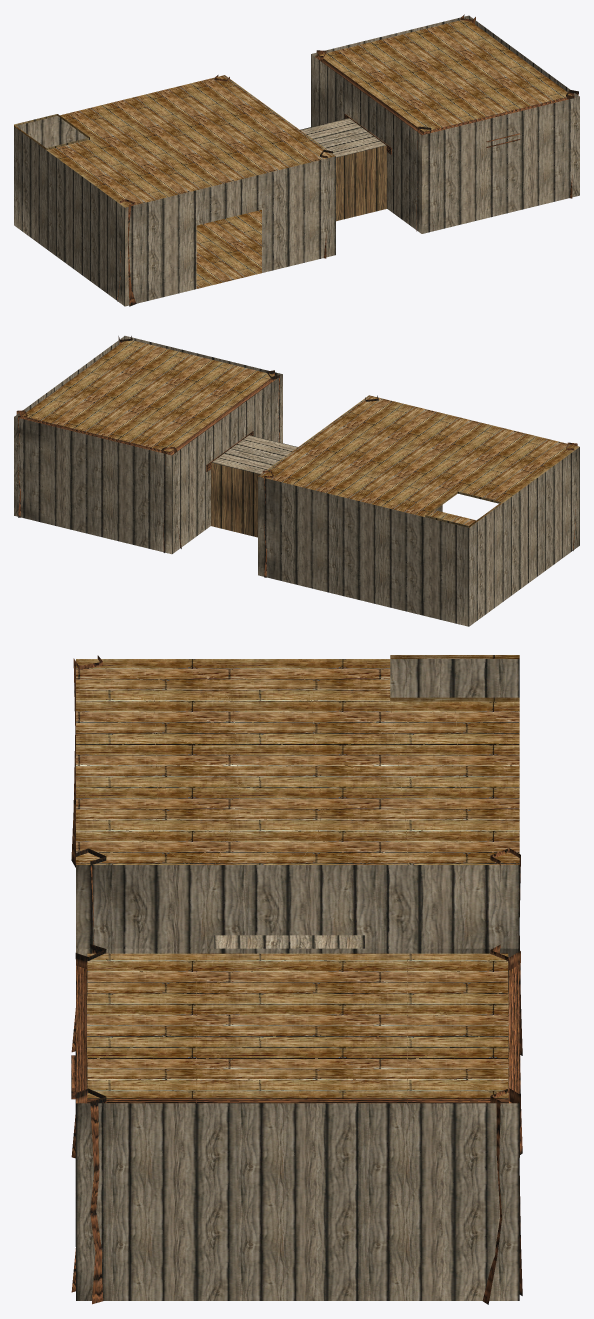
File: LAKETOWN_PUB_PS_PUB_CELLAR5756__GX.fbx
3 renders of one model, top to bottom at view 1: azimuth 30°, elevation 25°; view 2: azimuth 150°, elevation 25°; view 3: azimuth 270°, elevation 25°, orthographic. The views are drawn at different scales.
Parts seen in each view (by area): view 1: LAKETOWN_PUB_PS_PUB_CELLAR5756__GX; view 2: LAKETOWN_PUB_PS_PUB_CELLAR5756__GX; view 3: LAKETOWN_PUB_PS_PUB_CELLAR5756__GX.
Boxes of the visible parts, bbox=[...] form: LAKETOWN_PUB_PS_PUB_CELLAR5756__GX: bbox=[14, 14, 579, 306]; LAKETOWN_PUB_PS_PUB_CELLAR5756__GX: bbox=[14, 336, 579, 626]; LAKETOWN_PUB_PS_PUB_CELLAR5756__GX: bbox=[71, 655, 522, 1304].
Bounding box in the file's own units: 154158 × 32383 × 65575.
Materials: 7 (7 with a texture image).
